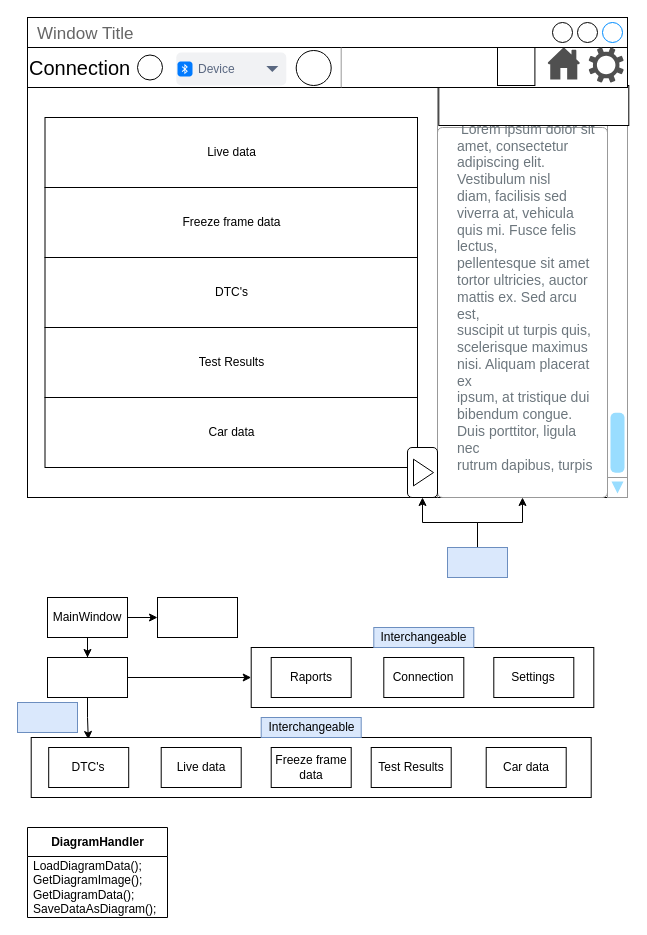
Some shapes in this 647 by 935 pixel diagram are drawn without their labels. The shapes that lost their labels are listed below. From the top down, each one's centre as x and y in pixels, then its label:
pixel 313 68: Plug icon
pixel 515 66: Diagram icon
pixel 533 105: Communication Log
pixel 477 562: Collapsible
pixel 197 617: Command Bar
pixel 87 677: InnerWindow
pixel 47 717: When connected
